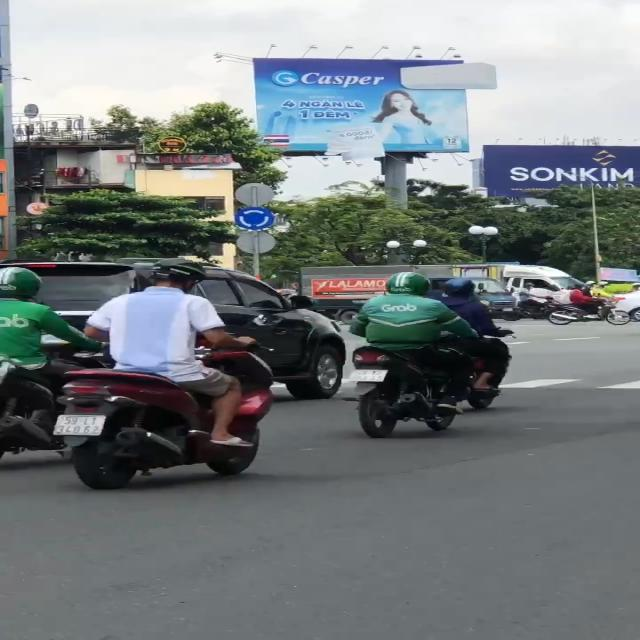Bien bao noi giao nhau chay theo vong xuyen: (236, 205, 279, 230)
